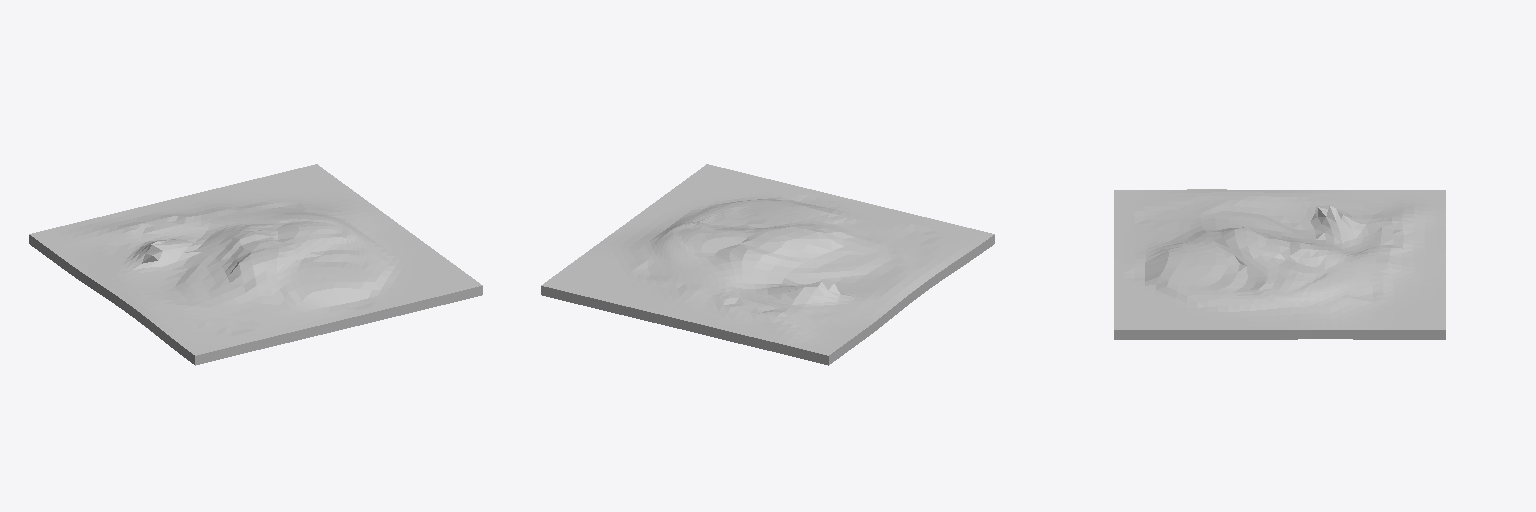
The model's file is ter.obj.
3 renders of one model, left to right at view 1: azimuth 30°, elevation 25°; view 2: azimuth 150°, elevation 25°; view 3: azimuth 270°, elevation 25°, orthographic.
Parts seen in each view (by area): view 1: Cube; view 2: Cube; view 3: Cube.
Boxes of the visible parts, <box> form: Cube: <box>29,164,482,365</box>; Cube: <box>541,164,994,365</box>; Cube: <box>1114,189,1445,339</box>.
Size of the model in its own units: 41.72 by 3.91 by 41.71.